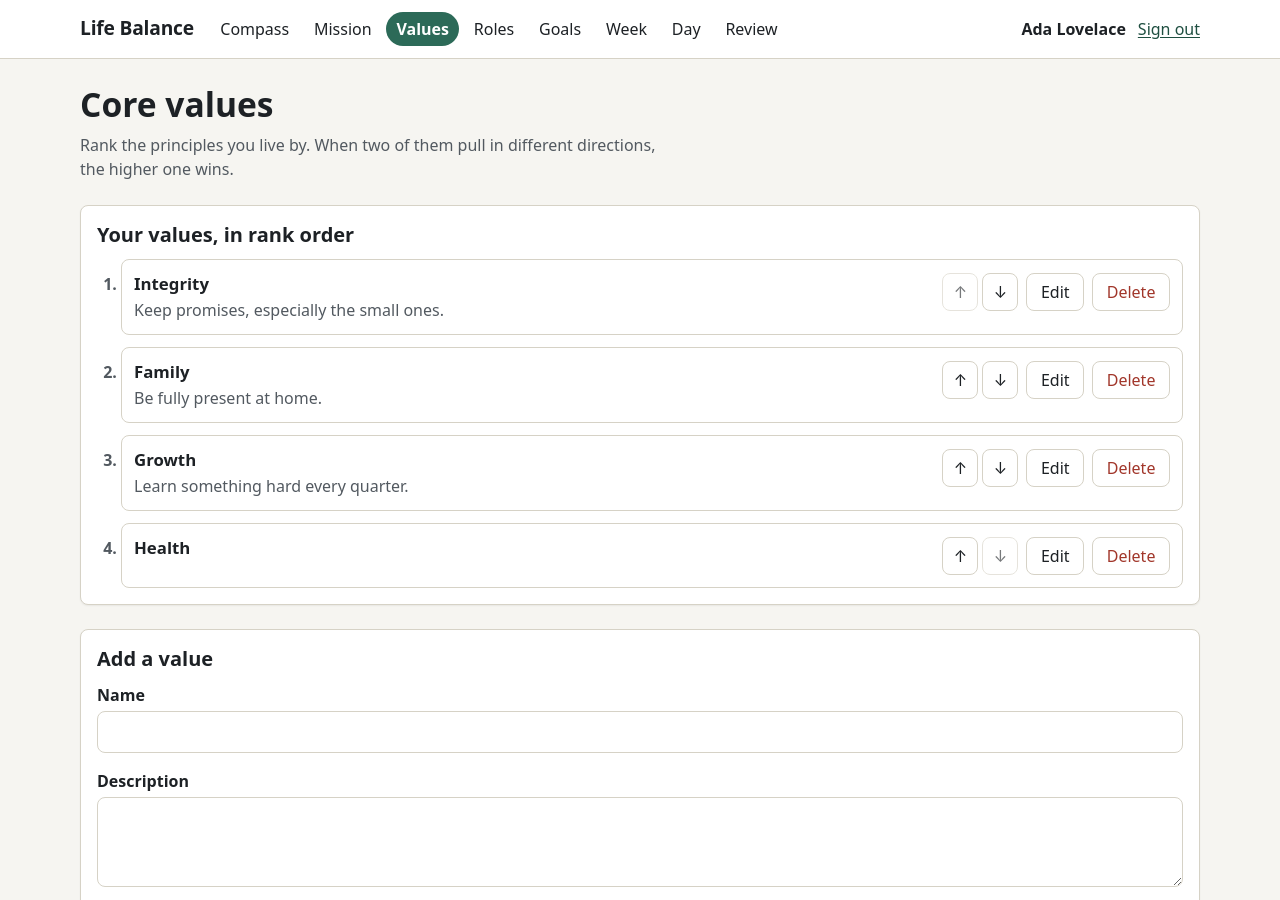
Test: cancels an edit without saving
The width and height of the screenshot is (1280, 900).
Click the button named "Edit Family" at (1055, 380), box x1=1026 y1=361 x2=1084 y2=399
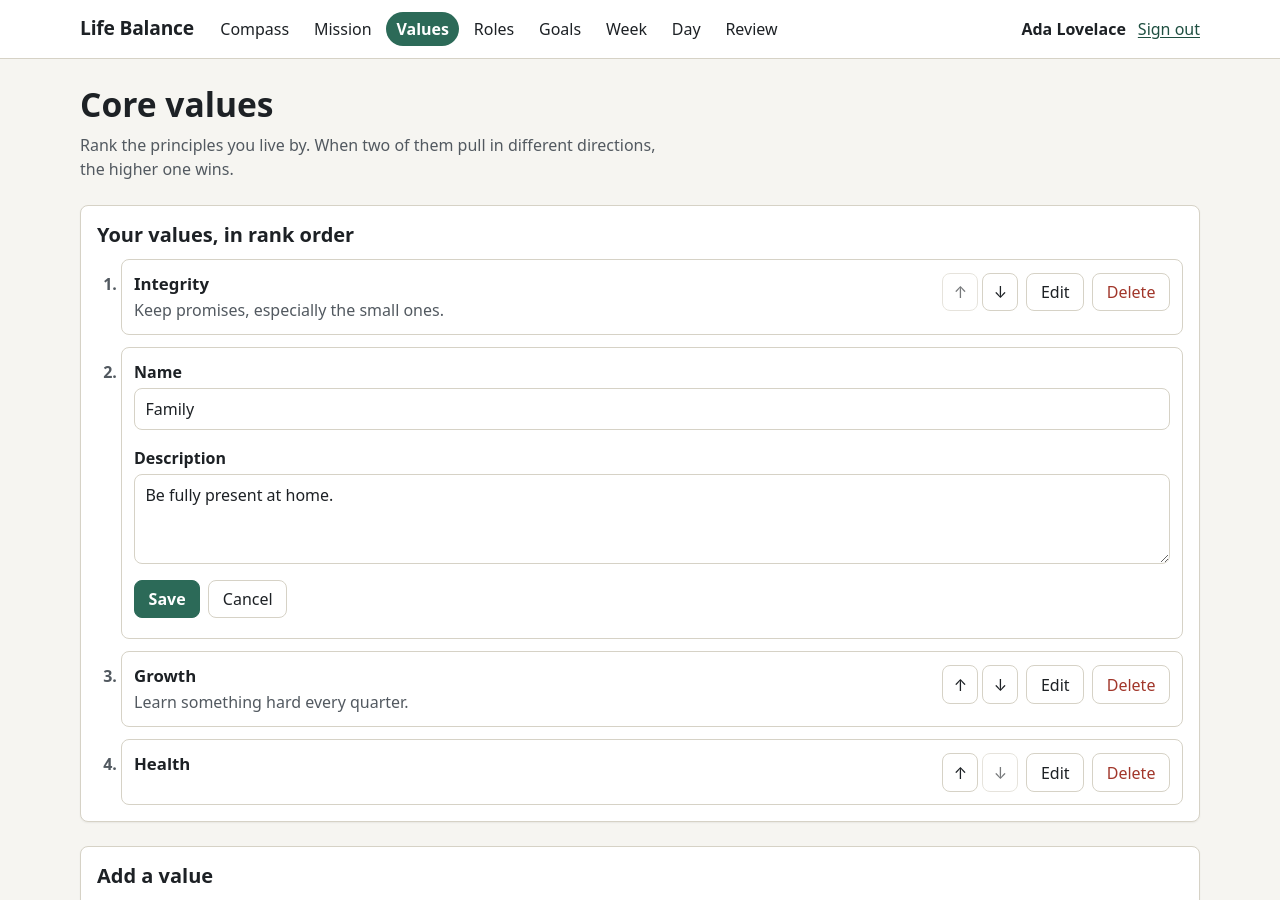
Type " time" into the field labelled "Name" at (652, 409), box x1=134 y1=388 x2=1170 y2=430
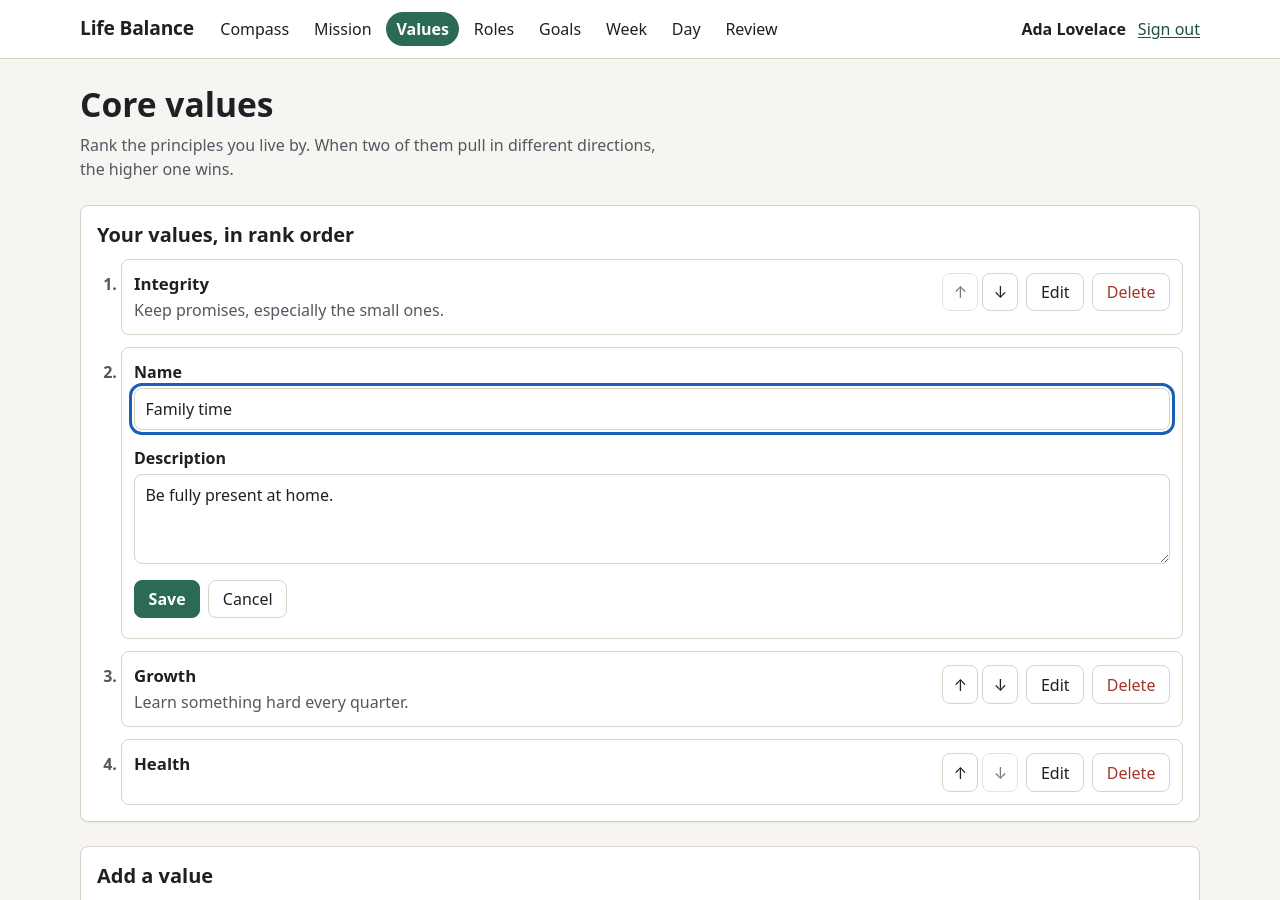
Click the button "Cancel" at (248, 599), box x1=208 y1=580 x2=287 y2=618
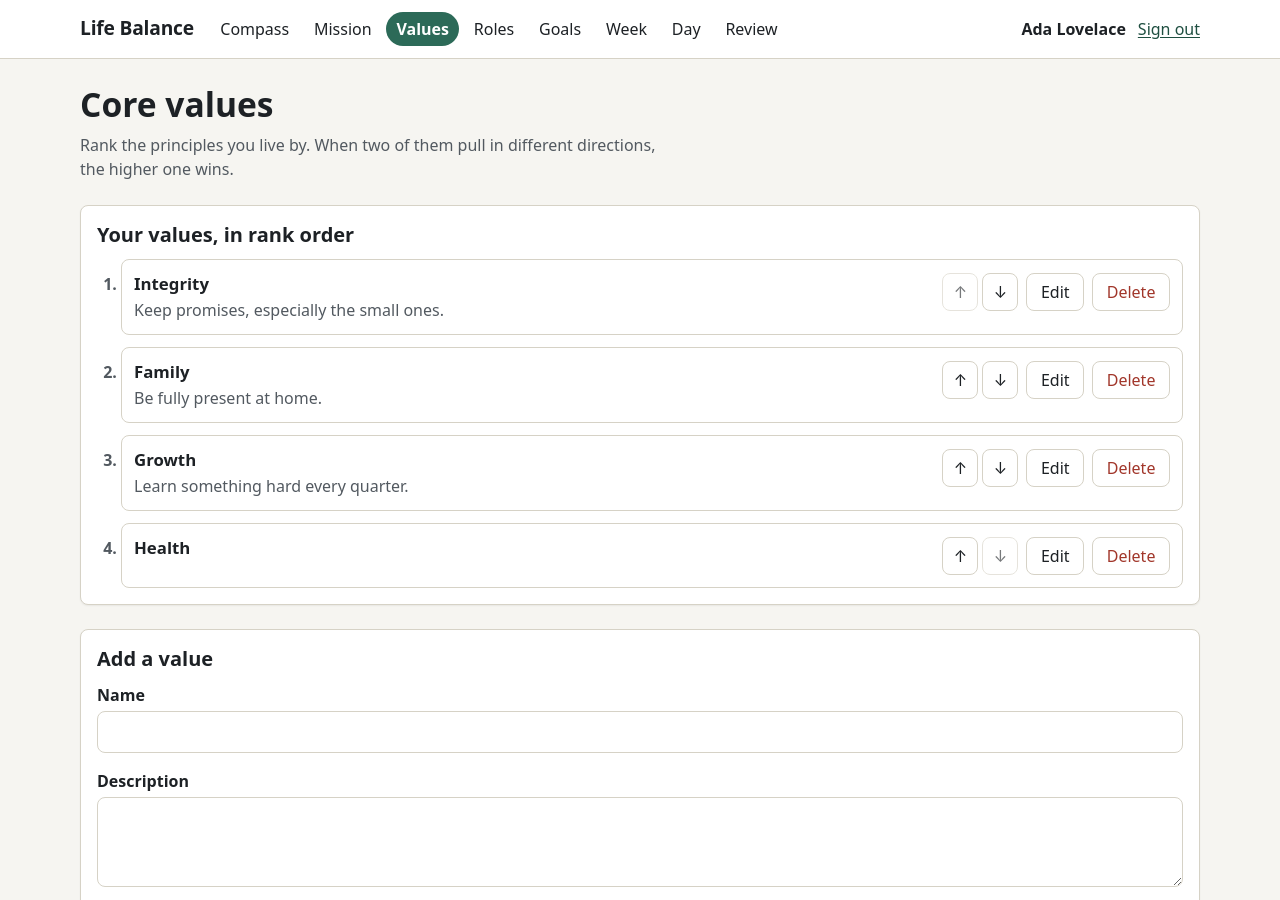
Expected: the heading "Family" is shown, x1=134 y1=360 x2=190 y2=383
